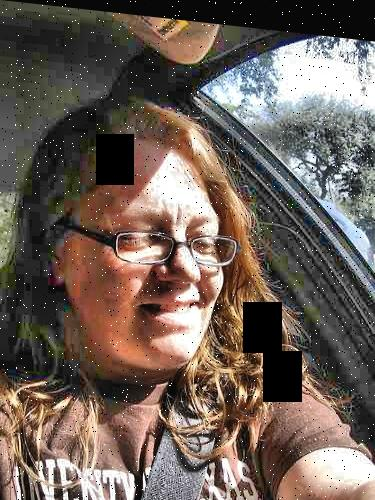seatbelt: (121, 310, 243, 500)
